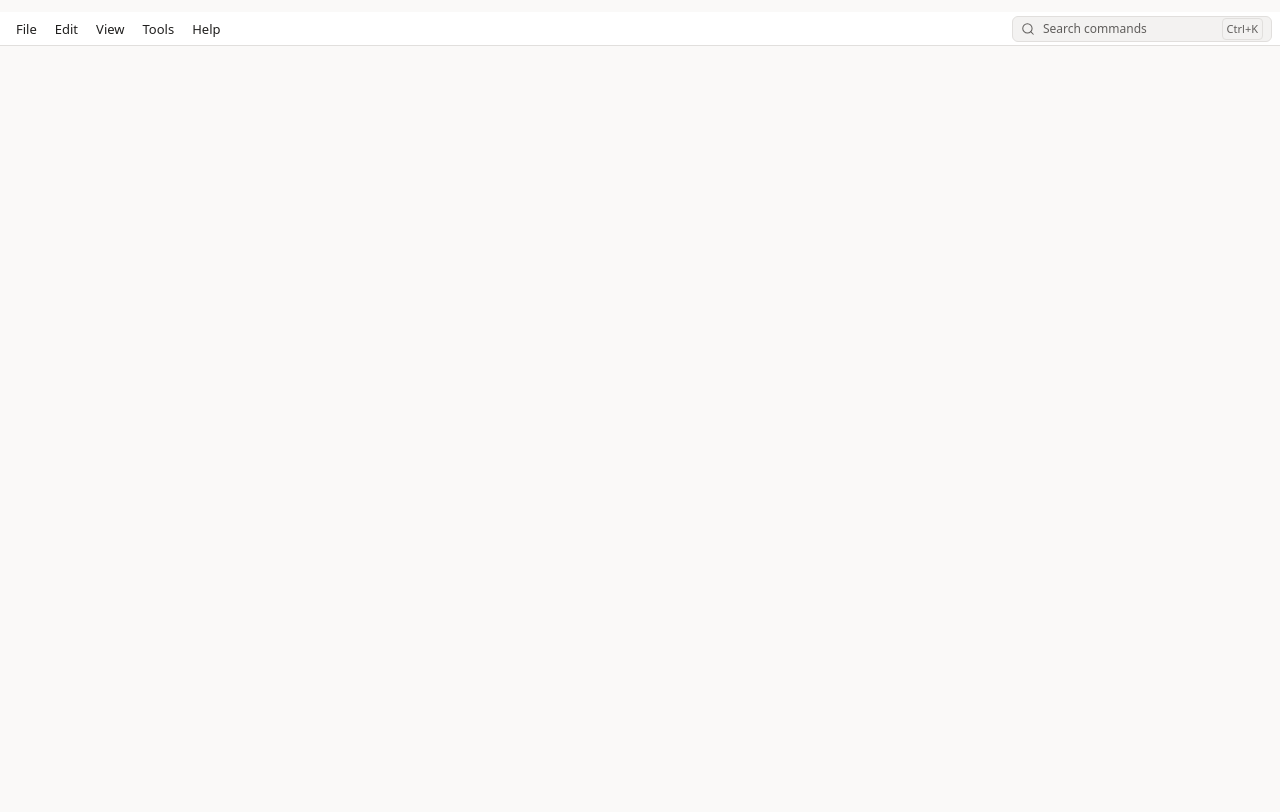
Test: command bar › enables the same command once there is something to clear
The image size is (1280, 812).
Click the menu item "Tools" at (158, 28), box [134, 16, 182, 42]
(page scrolled)
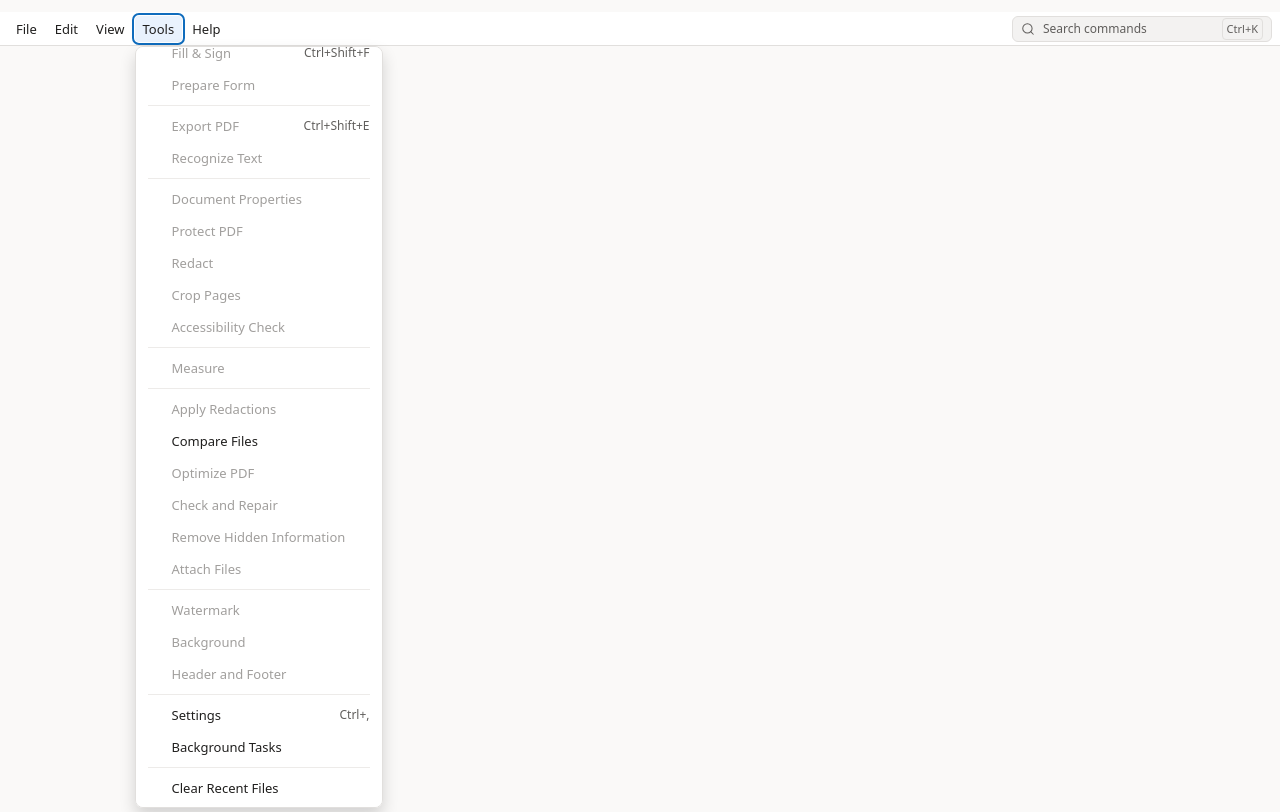
Expected: the menu item "Clear Recent Files" is enabled, [140, 772, 378, 804]
